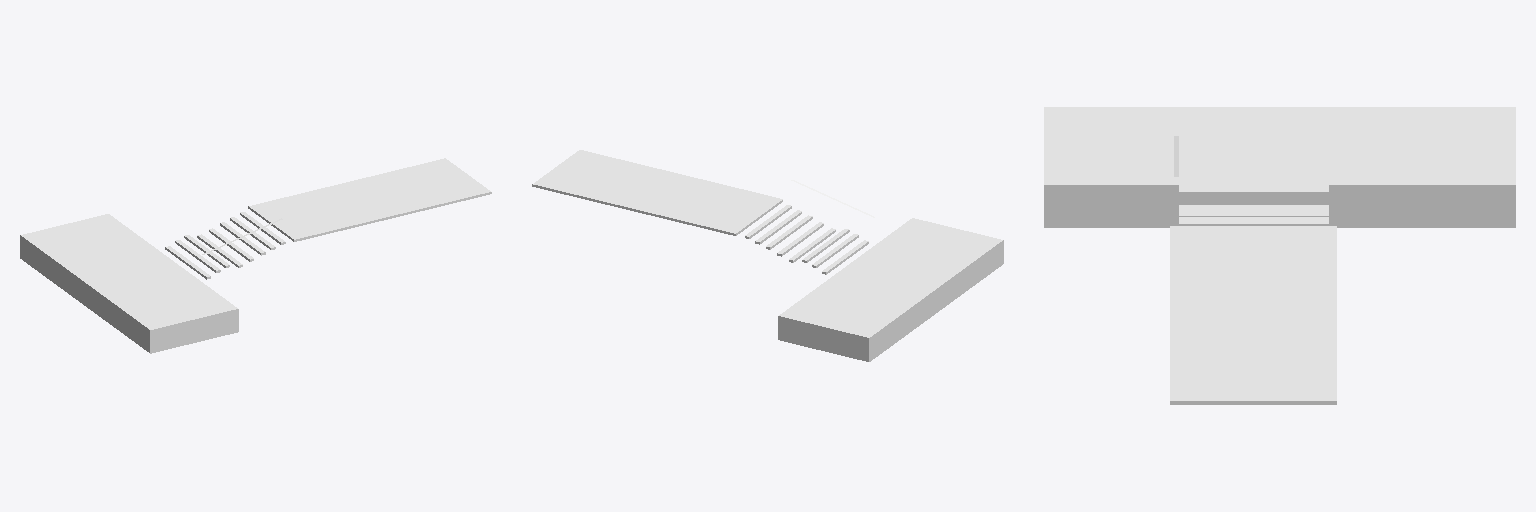
robot.urdf — stairs_lower:
<robot name="stairs_lower">
  <link name="base_link">
    <visual>
      <origin xyz="0 0 0" rpy="0 0 0" />
      <geometry>
        <mesh filename="package://hpp-rbprm-corba/meshes/stairs_lower.stl"/>
      </geometry>
      <material name="white">
        <color rgba="1 1 1 1"/>
      </material>
    </visual>
    <collision>
      <origin xyz="0 0 0" rpy="0 0 0" />
      <geometry>
        <mesh filename="package://hpp-rbprm-corba/meshes/stairs_lower.stl"/>
      </geometry>
    </collision>
  </link>
</robot>

--- Render facts (derived) ---
The picture shows the robot from 3 angles, left to right: view 1: azimuth 30°, elevation 25°; view 2: azimuth 150°, elevation 25°; view 3: azimuth 270°, elevation 25°; orthographic projection.
Model stairs_lower with 1 links and 0 joints (none), rooted at base_link, posed all joints at 0.
Visible links, largest first — view 1: base_link; view 2: base_link; view 3: base_link.
Link boxes in pixels (x1,y1,x2,y2): base_link: (20,158,491,353); base_link: (532,150,1003,361); base_link: (1044,107,1515,404).
Bounding box of the posed robot: 8.35 × 5 × 1.43 m (x, y, z).
1 mesh visuals loaded from 1 distinct referenced files (1 binary STL).